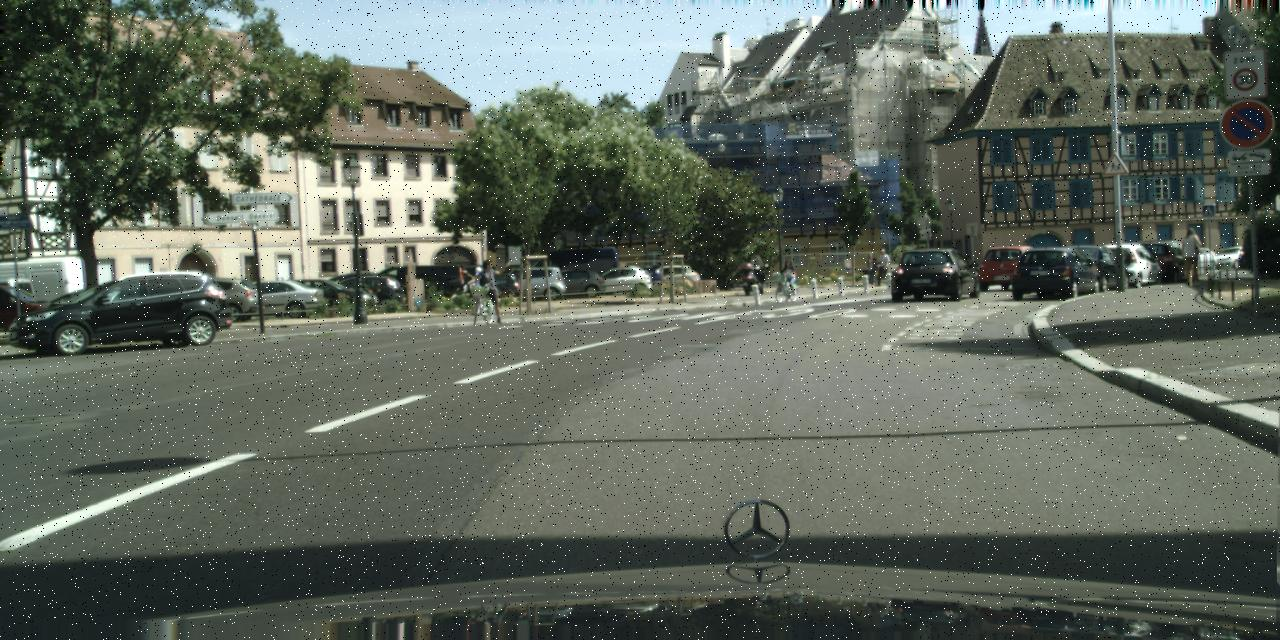ped: (475, 258, 501, 322), (1179, 226, 1203, 286), (875, 248, 890, 286), (781, 259, 796, 295), (864, 252, 877, 284)
